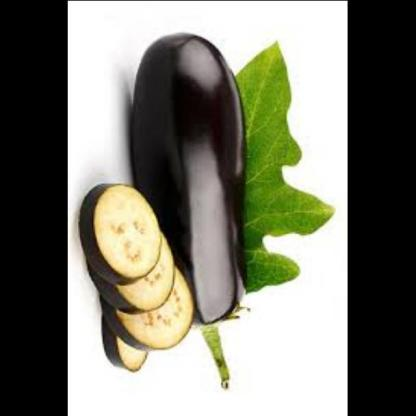eggplant: (133, 10, 264, 346), (74, 172, 198, 378)
